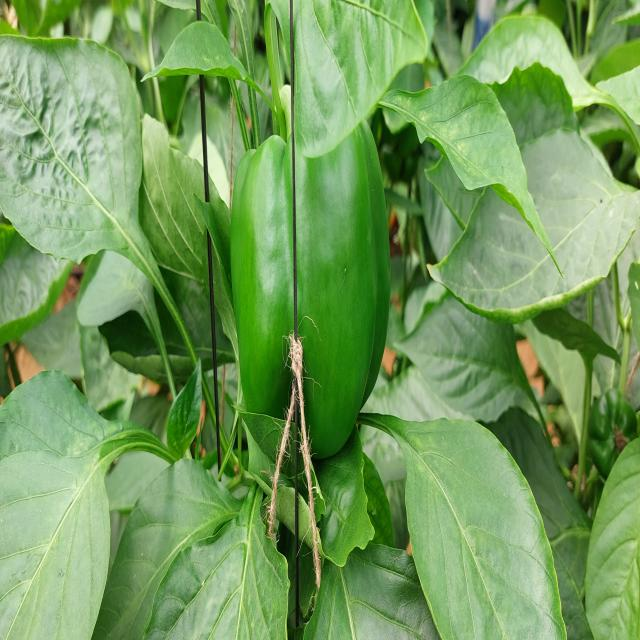Green--Not-ready-to-harvest: (235, 132, 390, 473)
